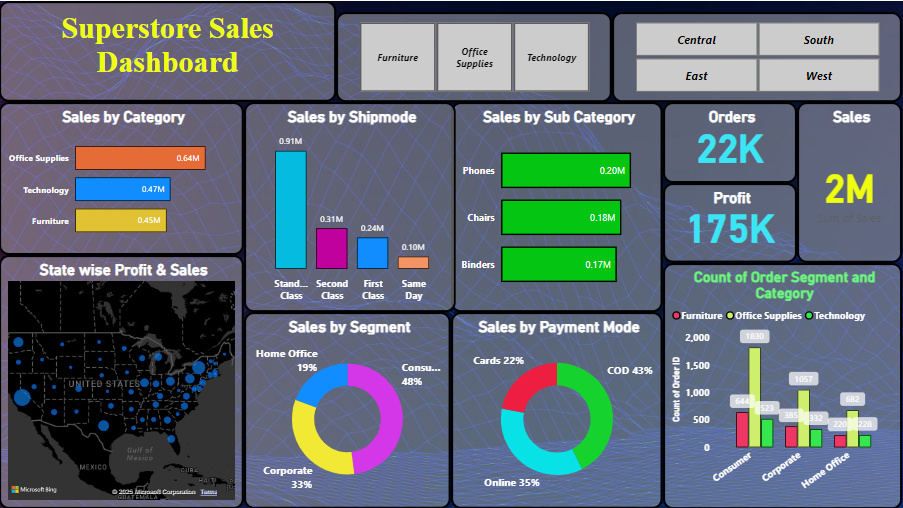

What the dashboard file says about the page in this screenshot:
{"tool":"powerbi","page":{"name":"Page 1","canvas":[1280,720],"ordinal":0},"visuals":[{"type":"clusteredBarChart","title":"Sales by Category","fields":{"Category":["Bi_Sales_Dataset.Category"],"Y":["Sum(Bi_Sales_Dataset.Sales)"]},"box":[0,142.9,347.1,217.1],"z":0},{"type":"clusteredBarChart","title":"Sales by Sub Category","fields":{"Category":["Bi_Sales_Dataset.Sub-Category"],"Y":["Sum(Bi_Sales_Dataset.Sales)"]},"box":[640.6,143.1,300.5,297.6],"z":1000},{"type":"map","title":"State wise Profit & Sales","fields":{"Category":["Bi_Sales_Dataset.State"],"Size":["Sum(Bi_Sales_Dataset.Sales)"]},"box":[0,360,347.1,360],"z":2000},{"type":"donutChart","title":"Sales by Segment","fields":{"Category":["Bi_Sales_Dataset.Segment"],"Y":["Sum(Bi_Sales_Dataset.Sales)"]},"box":[347.2,440.8,293.4,279.2],"z":3000},{"type":"donutChart","title":"Sales by Payment Mode","fields":{"Category":["Bi_Sales_Dataset.Payment Mode"],"Y":["Sum(Bi_Sales_Dataset.Sales)"]},"box":[640.6,440.8,300.5,279.2],"z":4000},{"type":"slicer","fields":{"Values":["Bi_Sales_Dataset.Region"]},"box":[868.8,15.6,411,127.6],"z":5000},{"type":"textbox","box":[0,0,477.6,143.1],"z":6000},{"type":"card","title":"Orders","fields":{"Values":["Sum(Bi_Sales_Dataset.Quantity)"]},"box":[941.1,143.1,189.9,114.8],"z":7000},{"type":"card","title":"Profit","fields":{"Values":["Sum(Bi_Sales_Dataset.Profit)"]},"box":[941.1,258,189.9,113.4],"z":8000},{"type":"clusteredColumnChart","title":"Sales by Shipmode","fields":{"Category":["Bi_Sales_Dataset.Ship Mode"],"Y":["Sum(Bi_Sales_Dataset.Sales)"]},"box":[347.2,143.1,300.5,297.6],"z":9000},{"type":"lineClusteredColumnComboChart","title":"Count of Order Segment and Category","fields":{"Y":["CountNonNull(Bi_Sales_Dataset.Order ID)"],"Category":["Bi_Sales_Dataset.Segment"],"Series":["Bi_Sales_Dataset.Category"]},"box":[941.1,371.3,338.7,348.7],"z":10000},{"type":"slicer","fields":{"Values":["Bi_Sales_Dataset.Category"]},"box":[477.6,15.6,391.2,127.6],"z":11000},{"type":"card","title":"Sales","fields":{"Values":["Sum(Bi_Sales_Dataset.Sales)"]},"box":[1104.5,143.2,175.5,228.4],"z":12000}]}

Visuals, with their boxes in screenshot pixels (x1, y1, x2, y2), scaled from the page's 1280x720 canvas onto the 903x508 screenshot:
"Sales by Category" clusteredBarChart: bbox=[0, 101, 245, 254]
"Sales by Sub Category" clusteredBarChart: bbox=[452, 101, 664, 311]
"State wise Profit & Sales" map: bbox=[0, 254, 245, 507]
"Sales by Segment" donutChart: bbox=[245, 311, 452, 507]
"Sales by Payment Mode" donutChart: bbox=[452, 311, 664, 507]
slicer - Bi_Sales_Dataset.Region: bbox=[613, 11, 902, 101]
textbox: bbox=[0, 0, 337, 101]
"Orders" card: bbox=[664, 101, 798, 182]
"Profit" card: bbox=[664, 182, 798, 262]
"Sales by Shipmode" clusteredColumnChart: bbox=[245, 101, 457, 311]
"Count of Order Segment and Category" lineClusteredColumnComboChart: bbox=[664, 262, 902, 507]
slicer - Bi_Sales_Dataset.Category: bbox=[337, 11, 613, 101]
"Sales" card: bbox=[779, 101, 902, 262]
